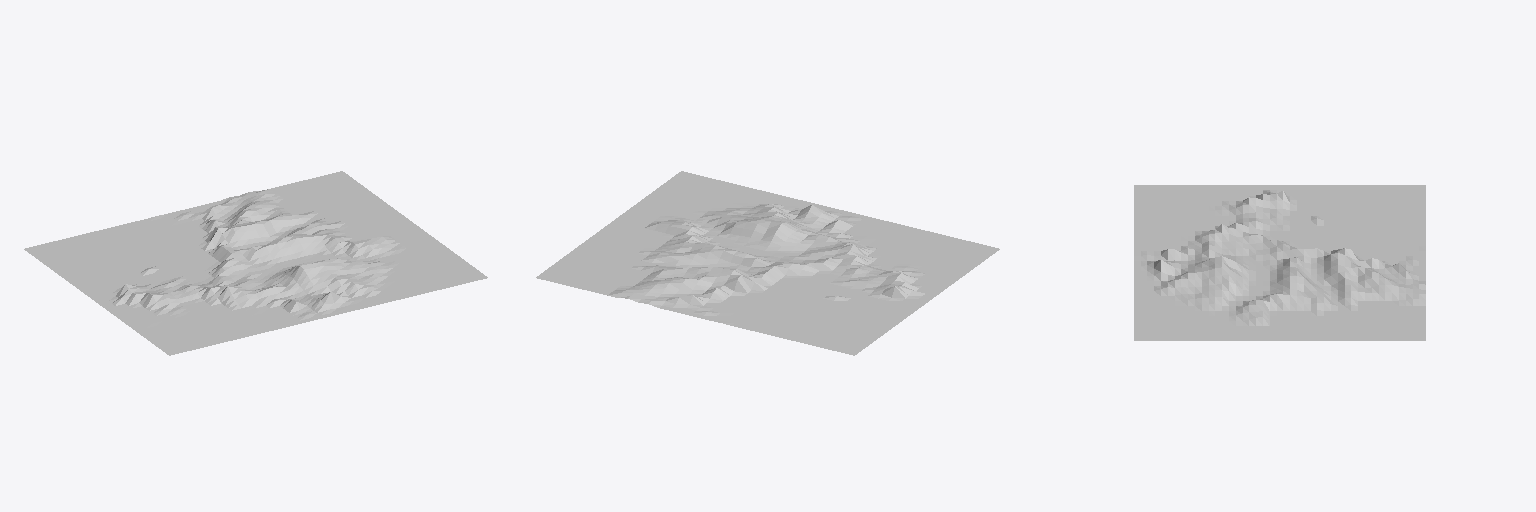
Rendered from mapv2.obj.
3 views of the same model, side by side, from view 1: azimuth 30°, elevation 25°; view 2: azimuth 150°, elevation 25°; view 3: azimuth 270°, elevation 25° (orthographic).
Parts seen in each view (by area): view 1: EXPORT_GOOGLE_SAT_WM; view 2: EXPORT_GOOGLE_SAT_WM; view 3: EXPORT_GOOGLE_SAT_WM.
Part boxes in pixels (bbox=[...]): EXPORT_GOOGLE_SAT_WM: bbox=[24, 171, 487, 355]; EXPORT_GOOGLE_SAT_WM: bbox=[536, 171, 999, 355]; EXPORT_GOOGLE_SAT_WM: bbox=[1134, 185, 1425, 340].
Size of the model in its own units: 33174 by 1487 by 26294.